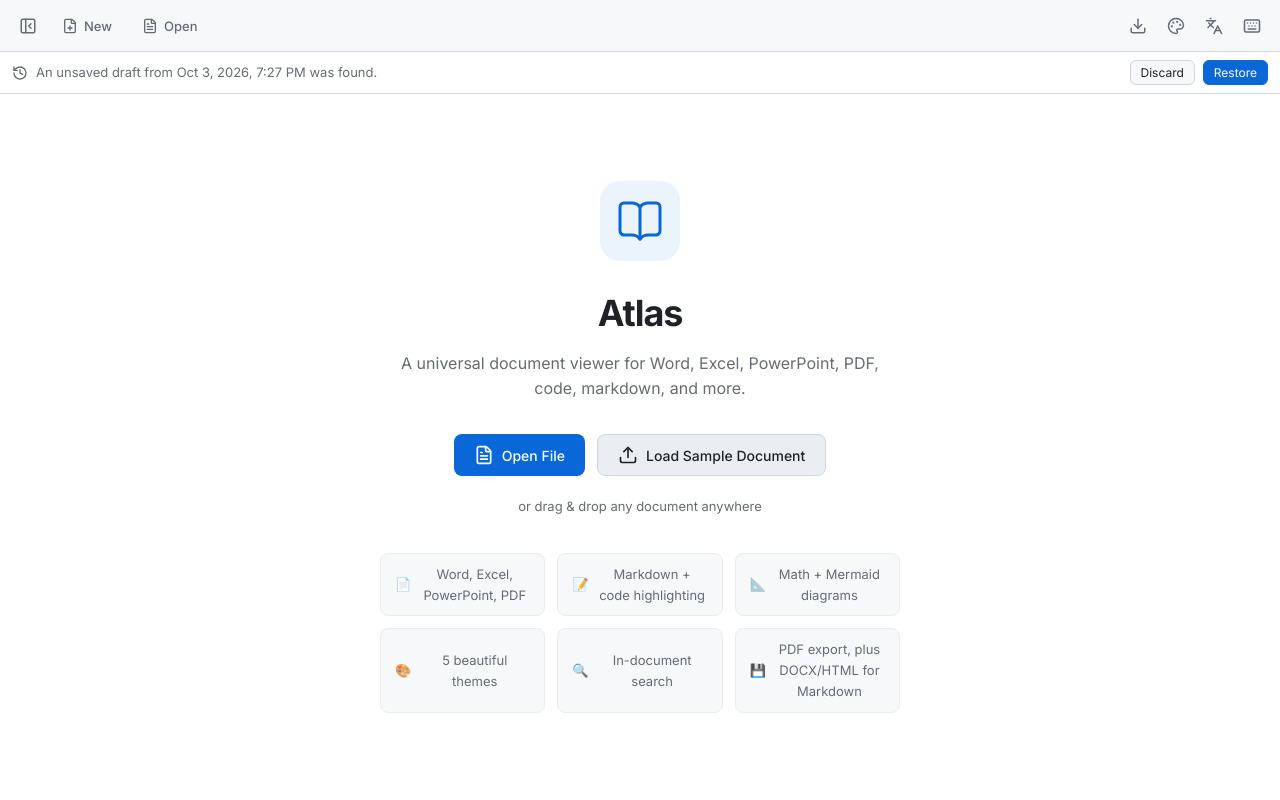
Scenario: App — draft recovery (P2.6/SHELL-11/LOAD-20) › shows a restore prompt on launch when a draft exists, and restoring loads it as a dirty untitled document
The image size is (1280, 800).
Check: the message shows "unsaved draft", box [36, 64, 377, 80]
Click the button "Restore" at {"x": 1235, "y": 72}, box [1203, 60, 1268, 85]
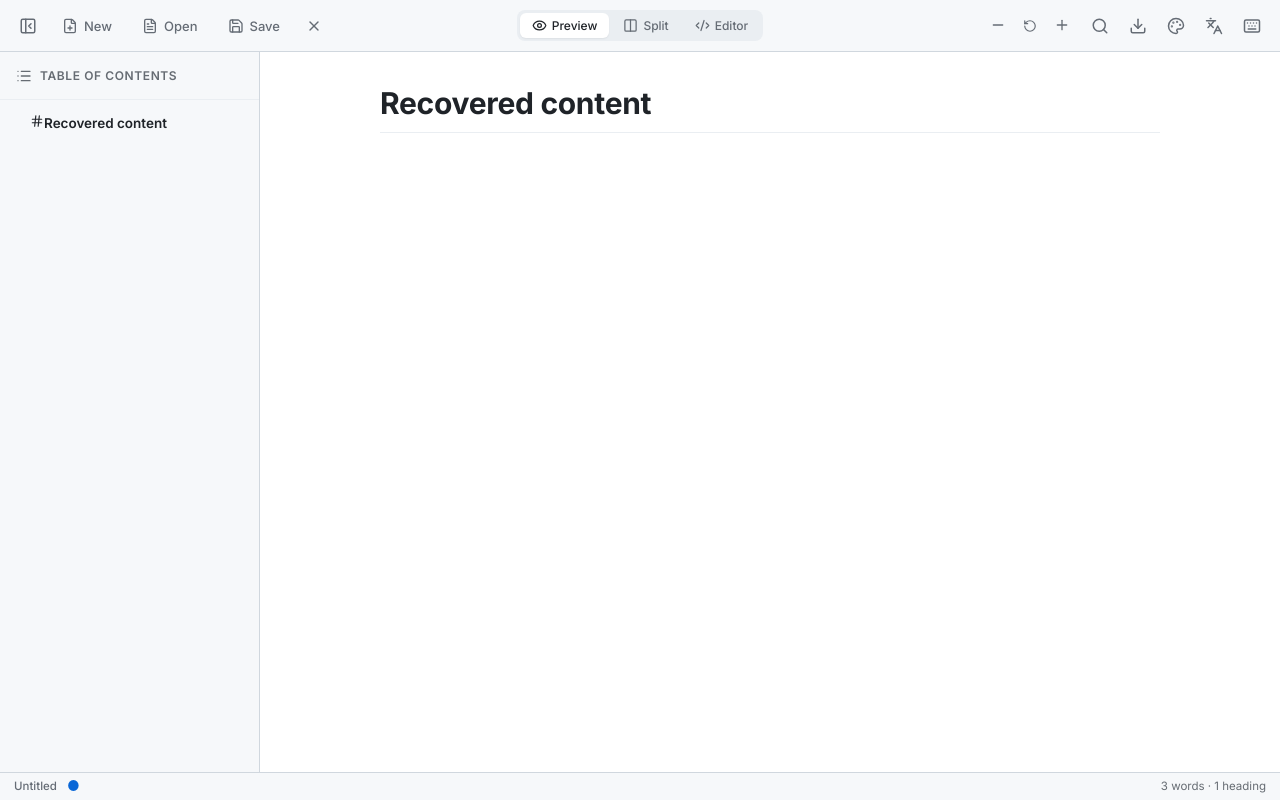
Check: the text "●" is shown, box [67, 780, 80, 794]
Check: the text "Untitled" is shown, box [14, 777, 57, 796]
Click the button "Editor" at {"x": 721, "y": 26}, box [683, 13, 760, 38]
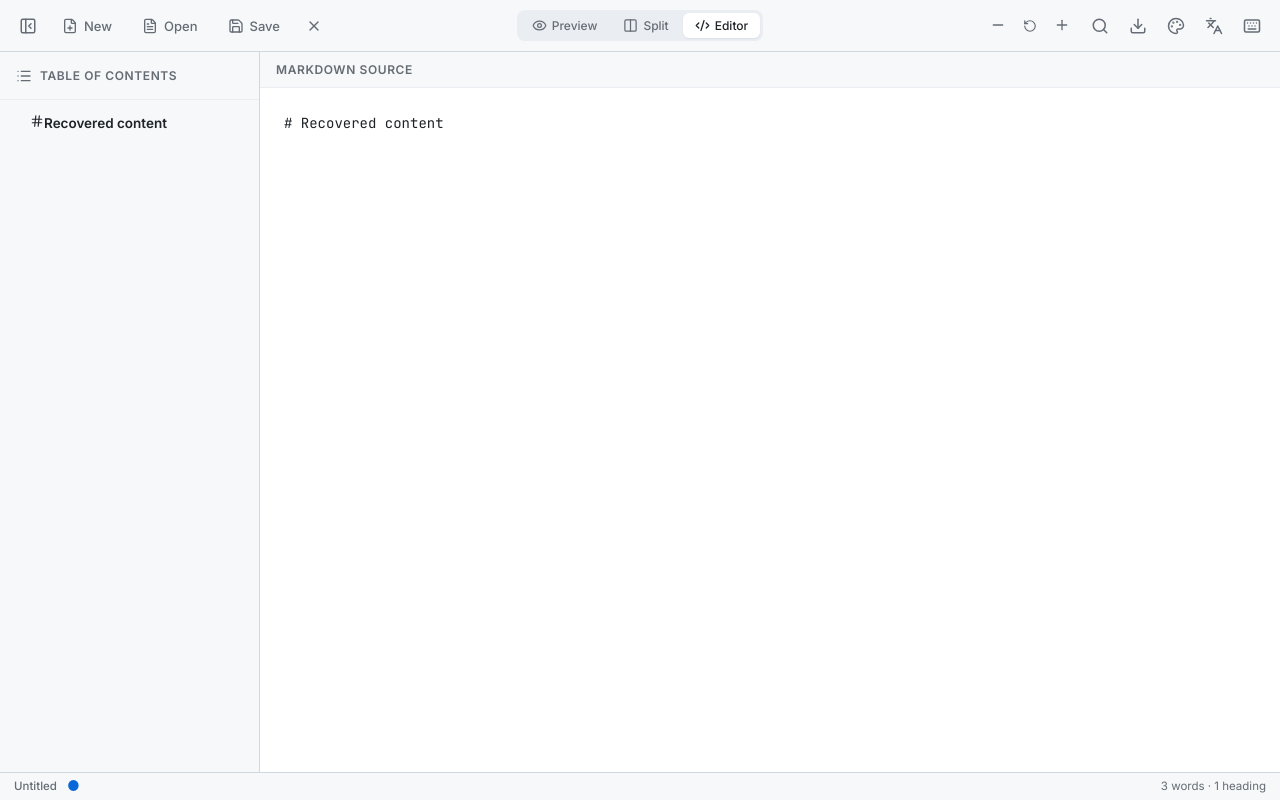
Check: the text box with placeholder "Type or paste markdown here..." holds "# Recovered content"
